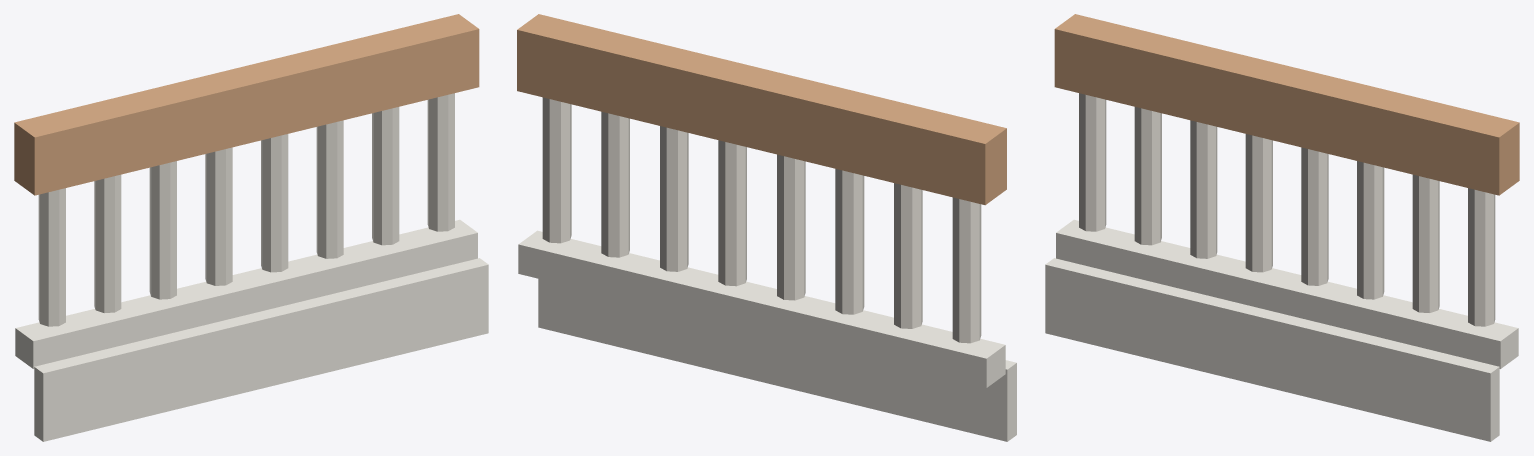
The model's file is balustrade.glb.
The picture shows the model from 3 angles, left to right: view 1: azimuth 30°, elevation 25°; view 2: azimuth 150°, elevation 25°; view 3: azimuth 330°, elevation 25°; orthographic projection. The views are drawn at different scales.
Visible parts, largest first — view 1: balustrade_trim, balustrade_wood, balustrade_cornice; view 2: balustrade_trim, balustrade_wood, balustrade_cornice; view 3: balustrade_trim, balustrade_wood, balustrade_cornice.
Part boxes in pixels (left/top/right/bottom): balustrade_trim: left=15, top=219, right=488, bottom=441; balustrade_wood: left=14, top=14, right=479, bottom=195; balustrade_cornice: left=38, top=93, right=454, bottom=326; balustrade_trim: left=518, top=230, right=1016, bottom=441; balustrade_wood: left=517, top=14, right=1006, bottom=205; balustrade_cornice: left=542, top=97, right=981, bottom=343; balustrade_trim: left=1045, top=219, right=1518, bottom=441; balustrade_wood: left=1054, top=14, right=1519, bottom=195; balustrade_cornice: left=1079, top=93, right=1495, bottom=326.
Size of the model in its own units: 2 by 1.28 by 0.23.
